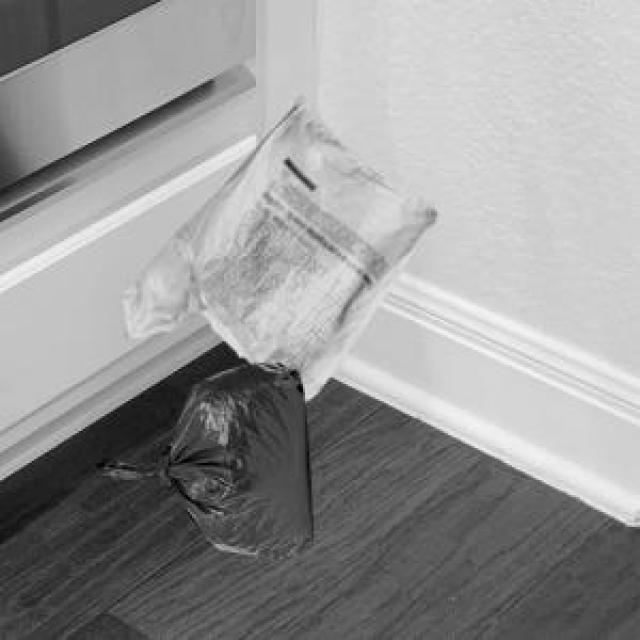miscellaneous trash: (90, 358, 309, 553)
